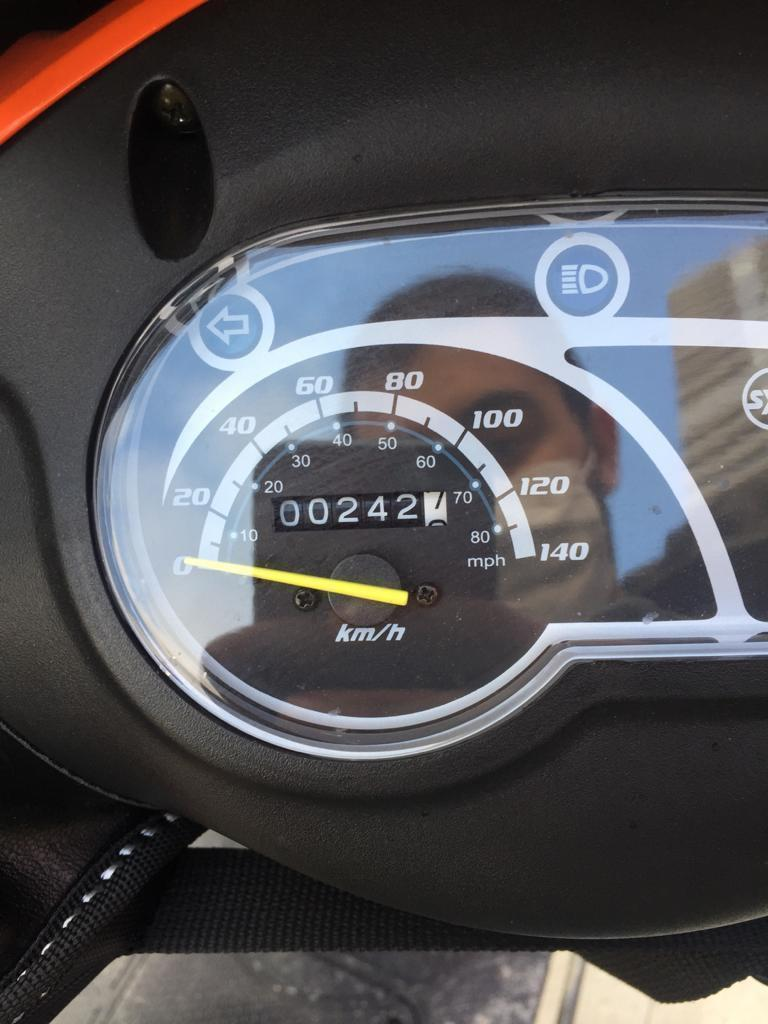0: (306, 496, 329, 526), (278, 498, 300, 528)
2: (335, 495, 360, 524), (395, 492, 418, 521)
4: (366, 493, 389, 523)
7: (425, 488, 445, 509)
odometer: (266, 487, 451, 536)
